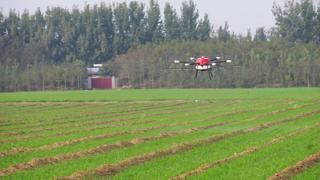UAV: (165, 56, 243, 80)
